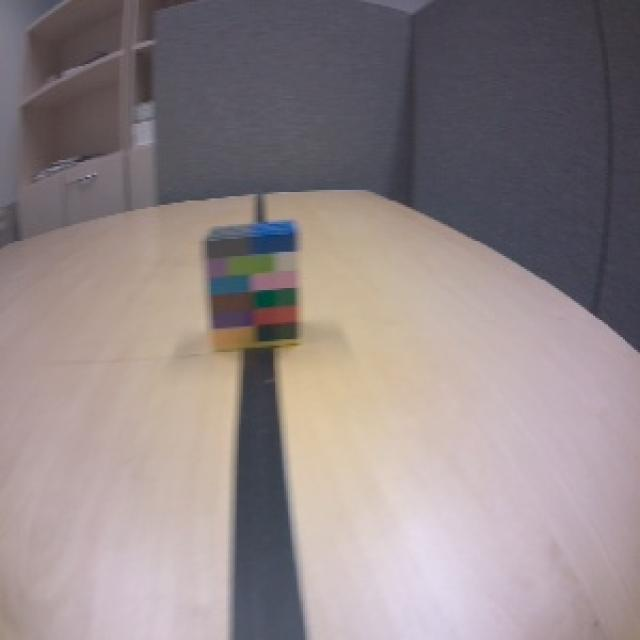obstacle: (198, 214, 306, 355)
